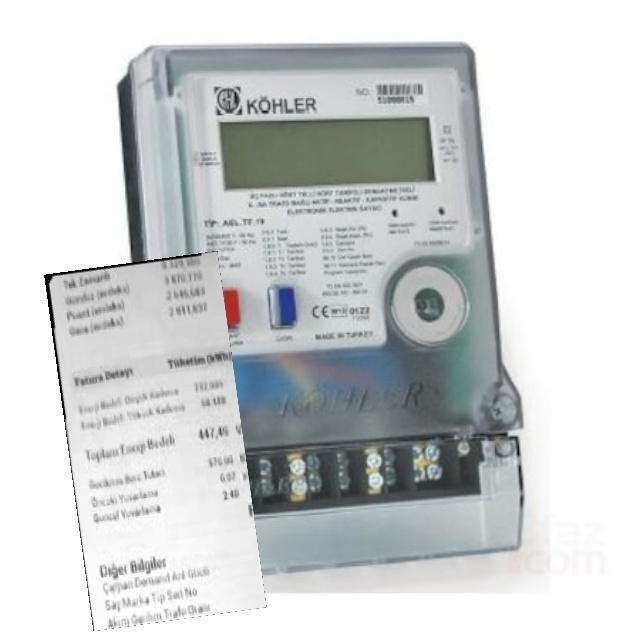electricity-bill: (44, 250, 267, 630)
